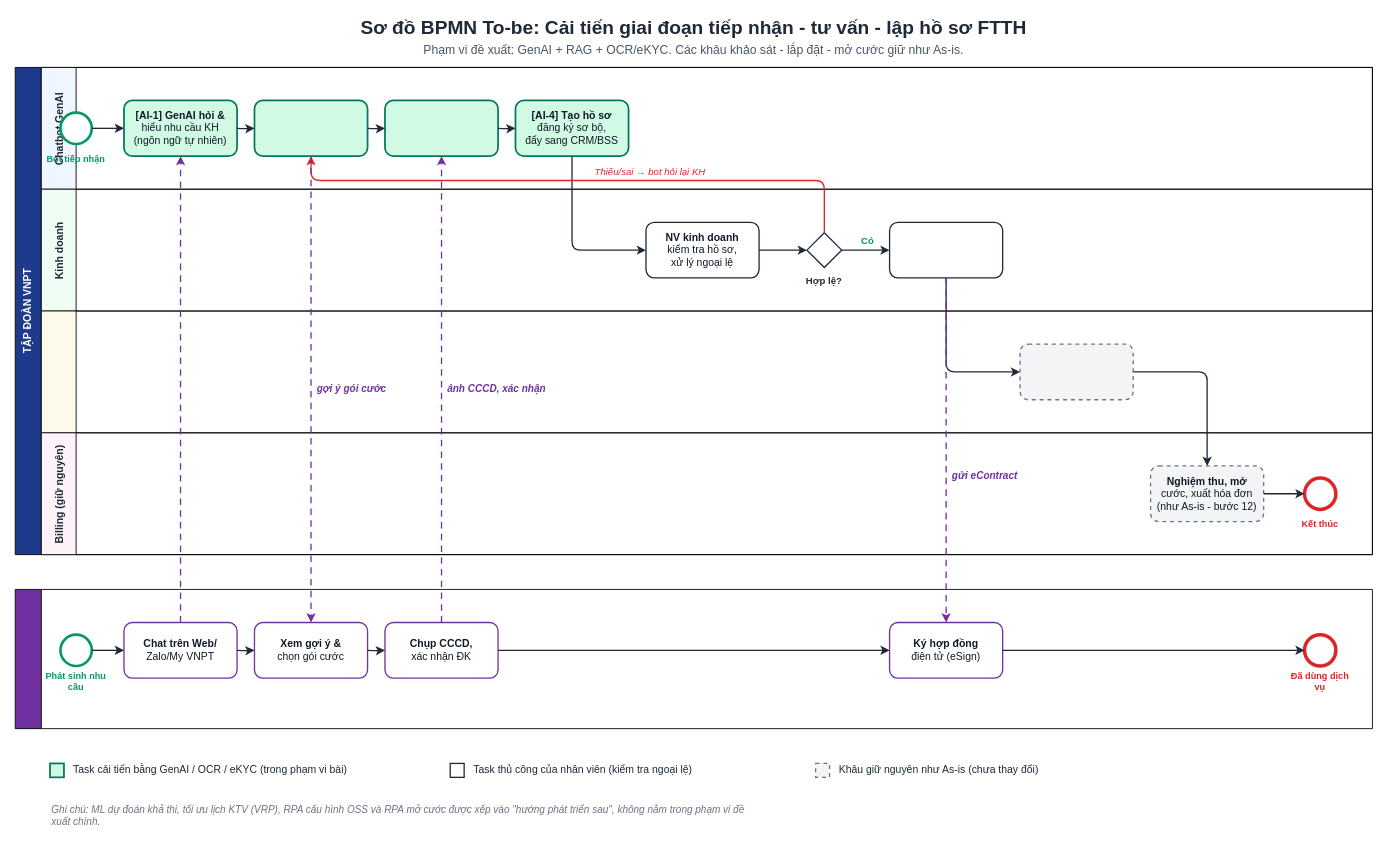
The diagram is 1388 pixels wide and 842 high, and some of its shapes have lost their labels. The shapes that lost their labels are listed below. From the top down, each one's box as (x1, y1, x2, y2) in pixels, then its label:
(253, 99, 368, 157): [AI-2] RAG tra cứu Product Catalog, tư vấn gói cước
(384, 99, 499, 157): [AI-3] OCR + eKYC đọc CCCD, xác thực thông tin KH
(889, 221, 1003, 278): Phát hành phiếu work order tới kỹ thuật
(40, 310, 1372, 433): Kỹ thuật (giữ nguyên)
(1019, 343, 1133, 400): Khảo sát & lắp đặt (như As-is - Câu 3, bước 8 đến 11)
(14, 589, 1372, 729): KHÁCH HÀNG
